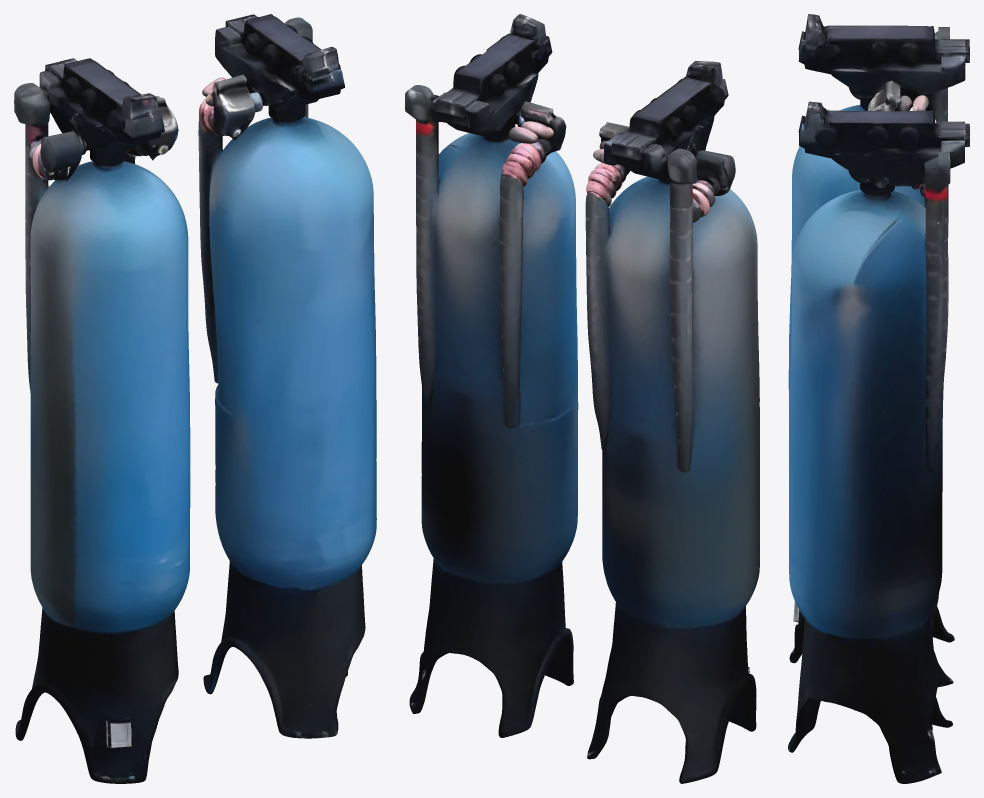
The model's file is filt.glb.
3 renders of one model, left to right at view 1: azimuth 30°, elevation 25°; view 2: azimuth 150°, elevation 25°; view 3: azimuth 270°, elevation 25°, orthographic. The views are drawn at different scales.
Visible parts, largest first — view 1: model; view 2: model; view 3: model.
Part boxes in pixels (x1,y1,x2,y2): model: (14,14,376,783); model: (405,14,759,783); model: (788,14,969,783).
Size of the model in its own units: 0.7528 by 1.5 by 0.3818.
Materials: 1 (1 with a texture image).
